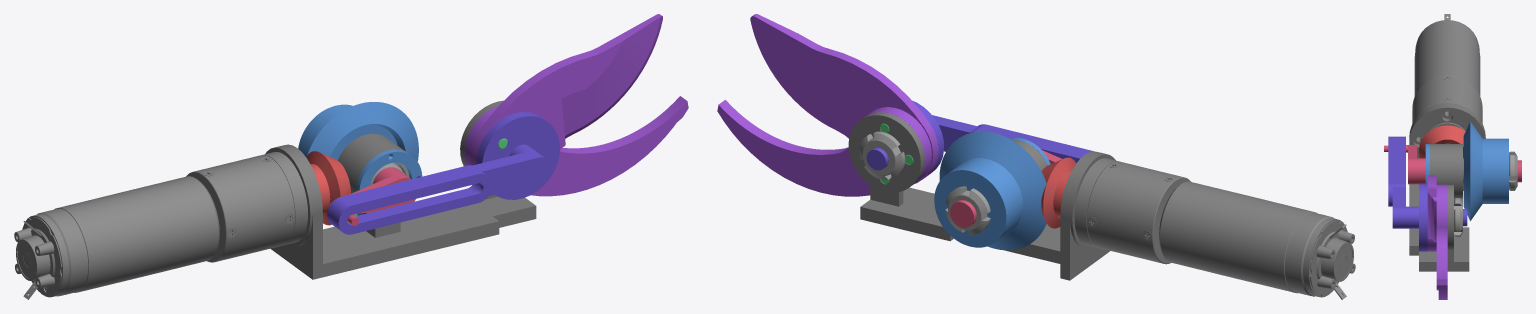
The model's file is Coupe Branches.fbx.
The picture shows the model from 3 angles, left to right: view 1: azimuth 30°, elevation 25°; view 2: azimuth 150°, elevation 25°; view 3: azimuth 270°, elevation 25°; orthographic projection. The views are drawn at different scales.
Visible parts, largest first — view 1: Body1 (×10); view 2: Body1 (×11); view 3: Body1 (×12).
Boxes of the visible parts, x1=… form: Body1 (×10): x1=14, y1=14, x2=688, y2=299; Body1 (×11): x1=717, y1=14, x2=1355, y2=299; Body1 (×12): x1=1384, y1=14, x2=1521, y2=299.
Bounding box in the file's own units: 260 × 62.17 × 63.
